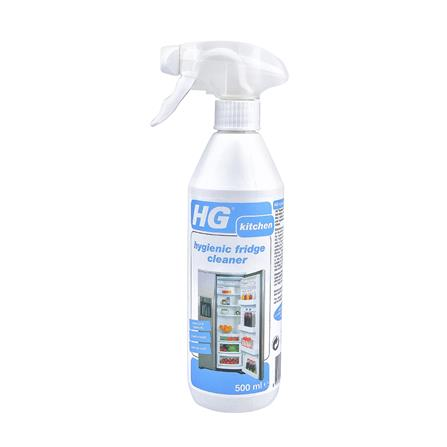Cleaning_solution: (146, 35, 294, 419)
